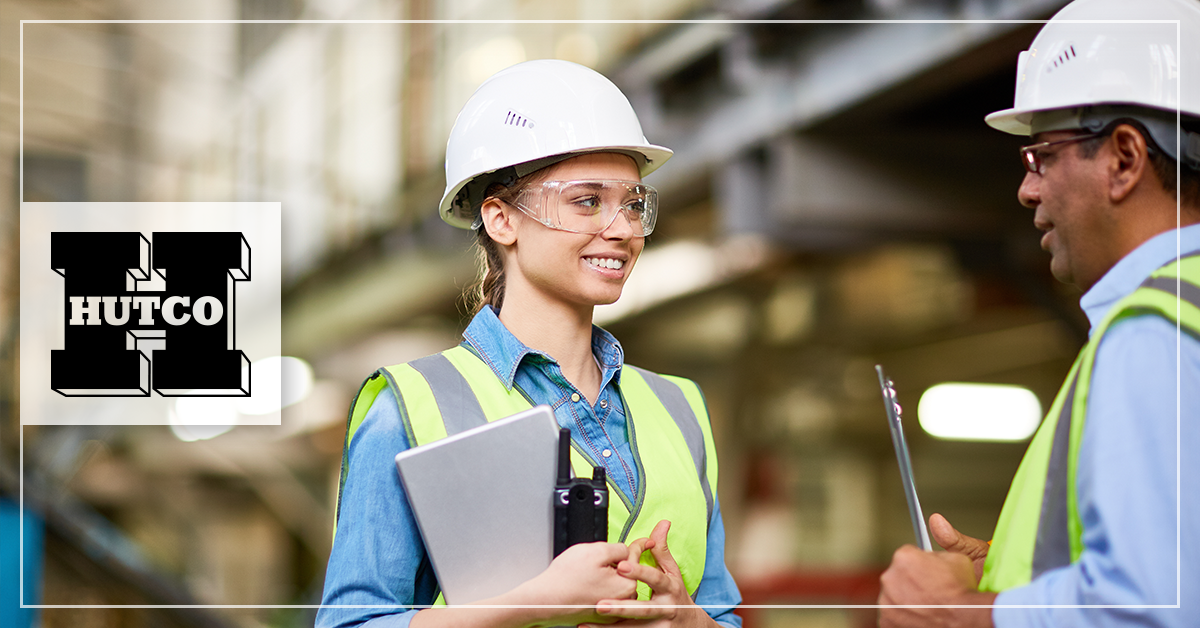Person_wearing_helmet: (427, 51, 681, 225), (986, 0, 1197, 186)
